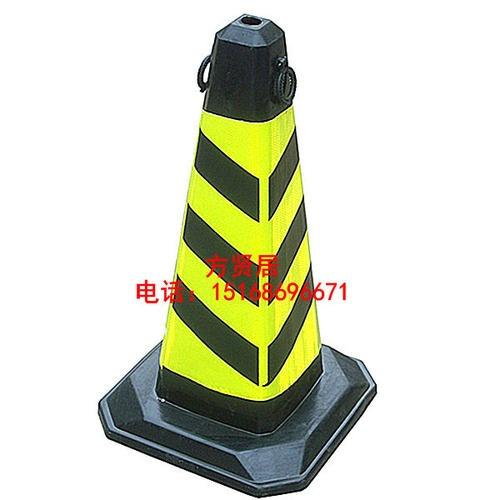cone_barrel: (129, 15, 355, 453)
